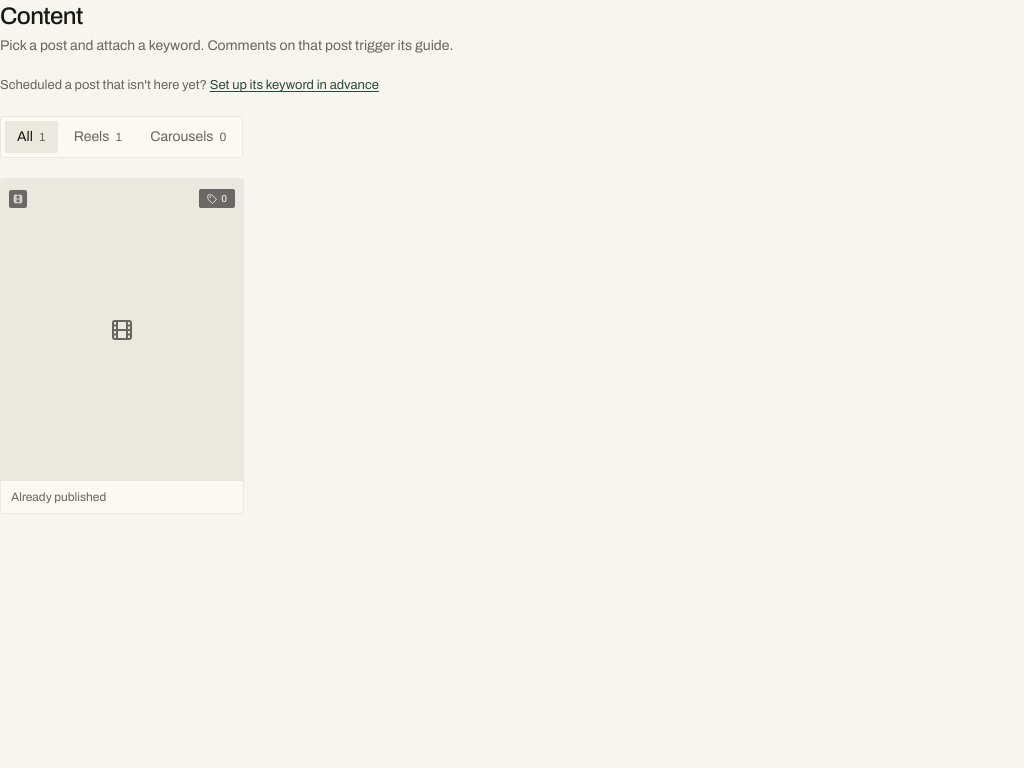
Scenario: Content › keeps the upcoming entry point reachable when nothing is pending
Check: the text "Already published" is shown, box x1=11 y1=490 x2=106 y2=504
Click the button "Set up its keyword in advance".
click(294, 86)  # box x1=210 y1=76 x2=379 y2=96
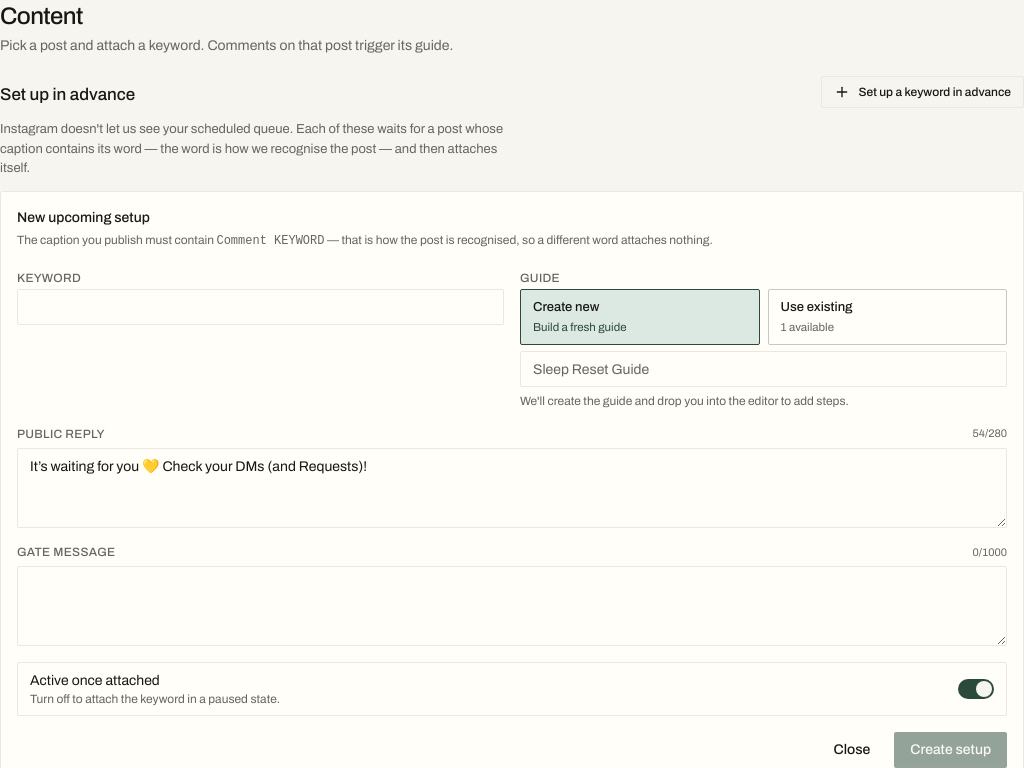
Check: the field labelled "Keyword" is shown, box x1=17 y1=288 x2=504 y2=324
